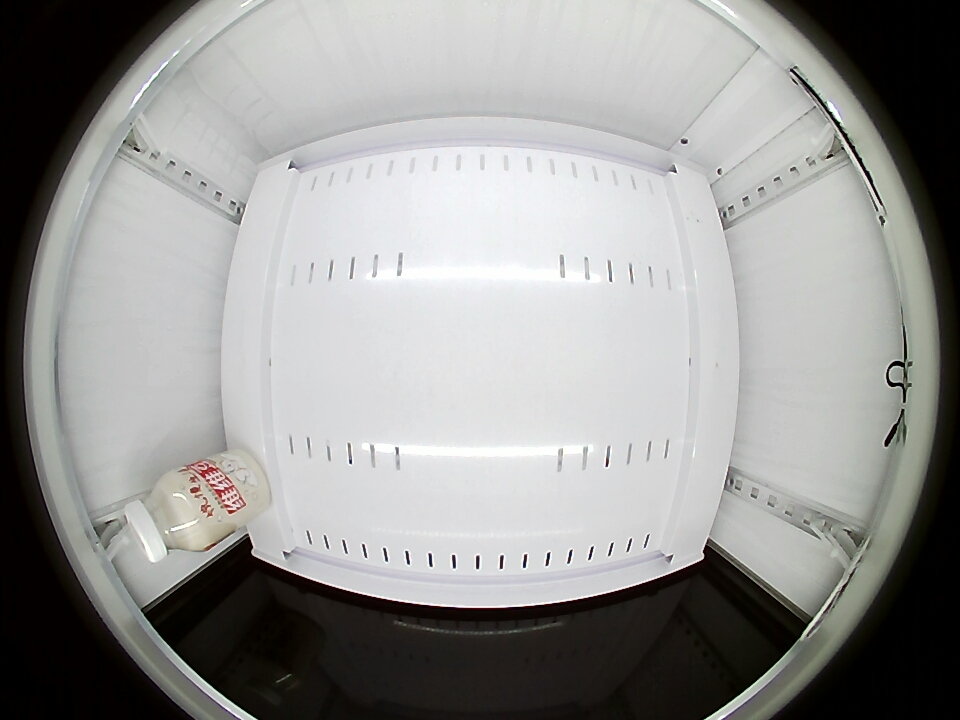weiweidounai: (123, 469, 212, 563)
